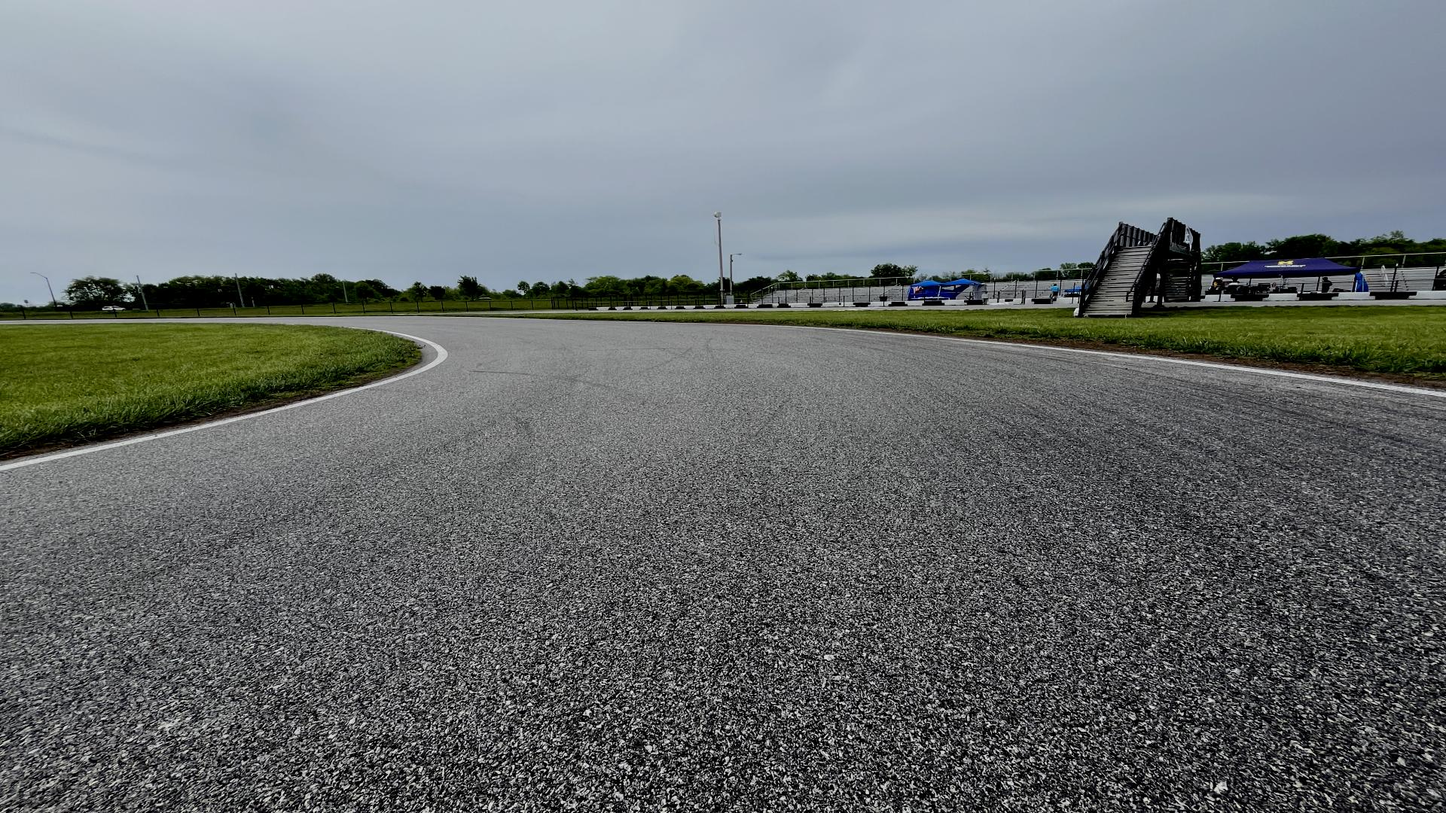white-line: (0, 327, 447, 472), (615, 321, 1445, 399)
